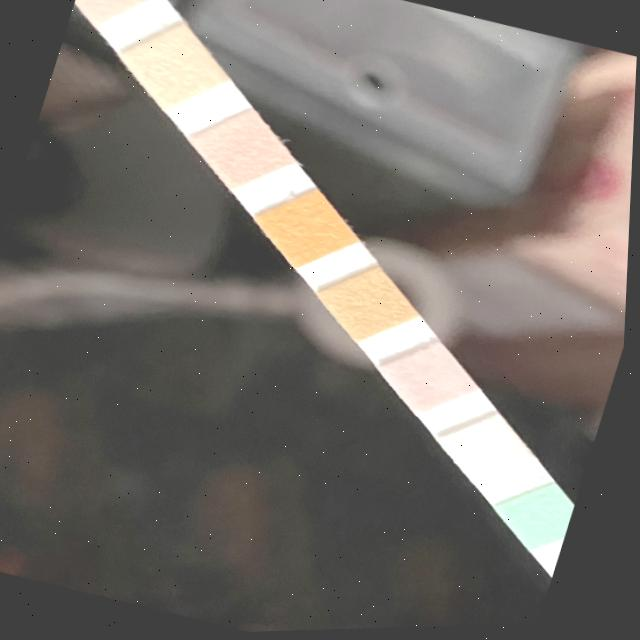Bilirubin: (459, 426, 517, 474)
Blood: (274, 202, 342, 256)
Glucose: (520, 496, 576, 542)
Ketone: (398, 356, 462, 404)
Protein: (136, 40, 210, 97)
SpGravity: (338, 279, 401, 331)
Urobilinogen: (73, 0, 139, 13)
pH: (207, 124, 277, 179)
